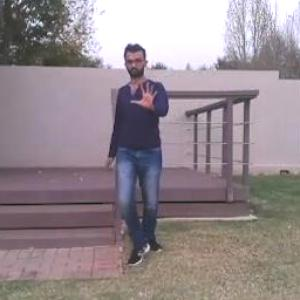follow_hand: (129, 76, 163, 113)
